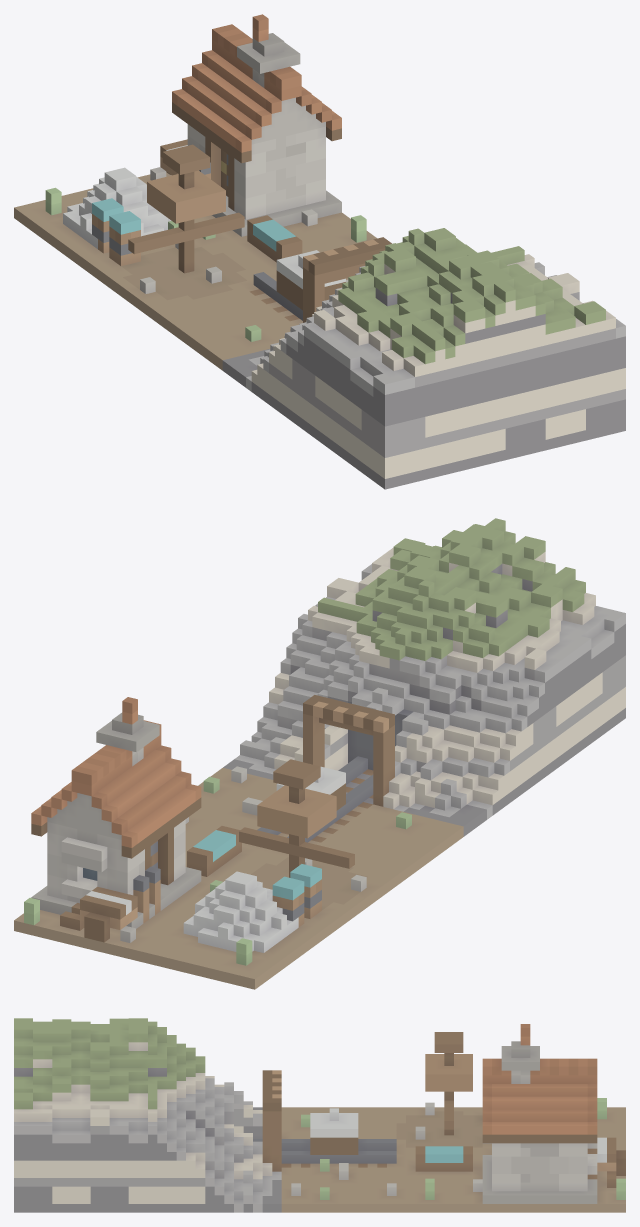
Rendered from salt_mine.glb.
3 views of the same model, one above another, from view 1: azimuth 30°, elevation 25°; view 2: azimuth 150°, elevation 25°; view 3: azimuth 270°, elevation 25° (orthographic). The views are drawn at different scales.
Parts seen in each view (by area): view 1: salt_mine; view 2: salt_mine; view 3: salt_mine.
Boxes of the visible parts, x1,y1,x2,y2 form: salt_mine: (14, 14, 625, 489); salt_mine: (14, 518, 625, 989); salt_mine: (14, 1018, 625, 1212).
Bounding box in the file's own units: 3 × 2.38 × 8.
